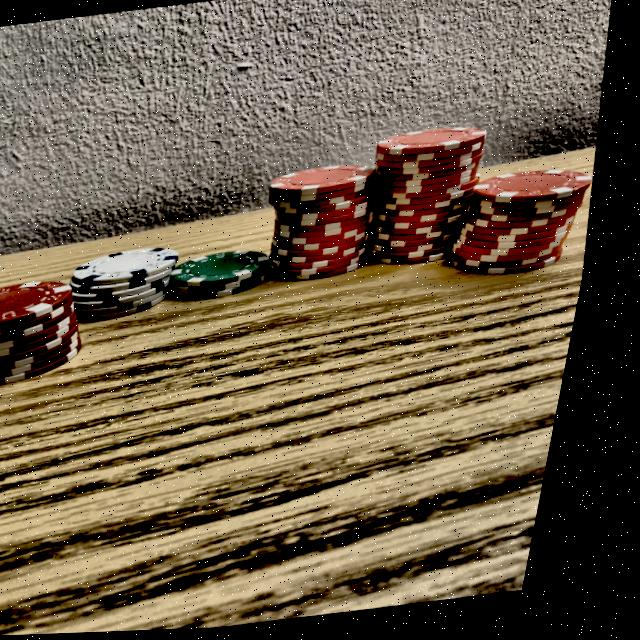Chip: (356, 103, 516, 289), (249, 140, 412, 304), (452, 162, 611, 293), (0, 275, 111, 396), (68, 243, 199, 329), (170, 241, 287, 308)
